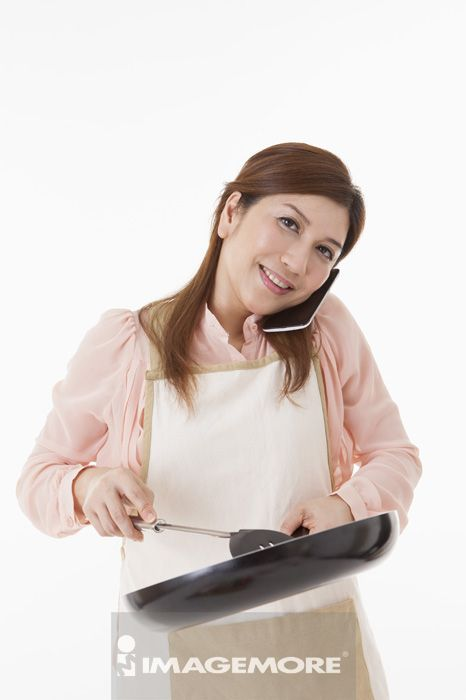helmet: (243, 199, 342, 347)
phone: (263, 268, 341, 334)
